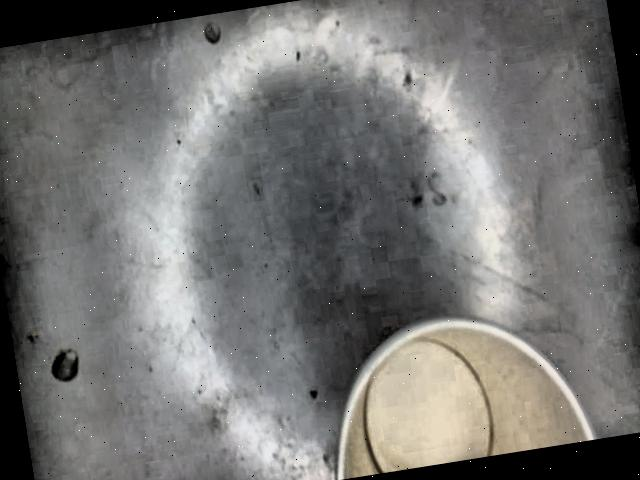Paper: (333, 317, 594, 478)
